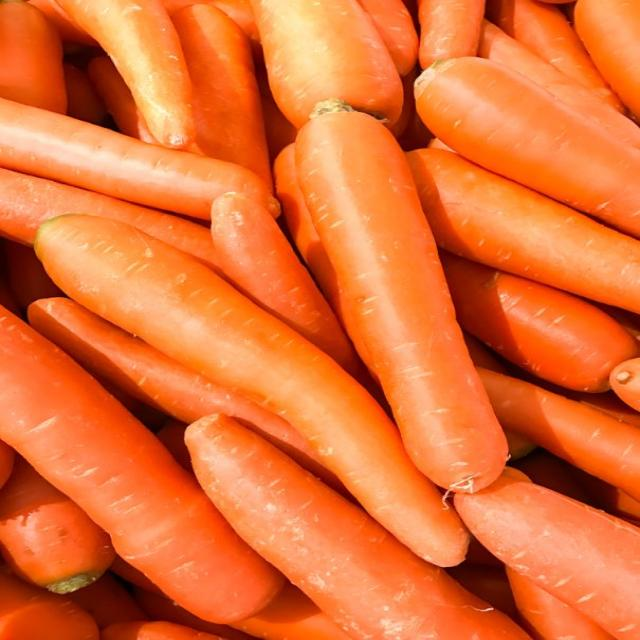Carrot: (309, 104, 488, 485)
